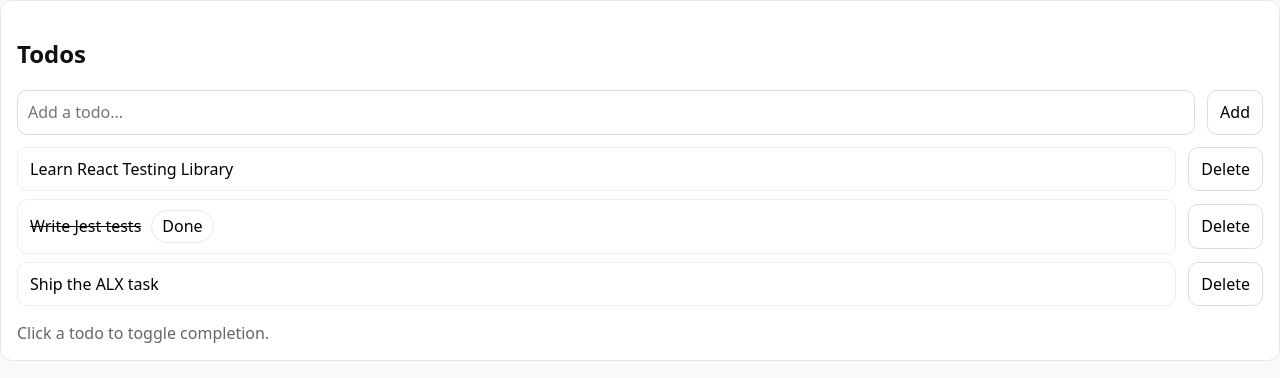
Scenario: TodoList › deletes a todo
Click the button with aria-label "delete-3" at (1226, 284), box x1=1188 y1=262 x2=1263 y2=306
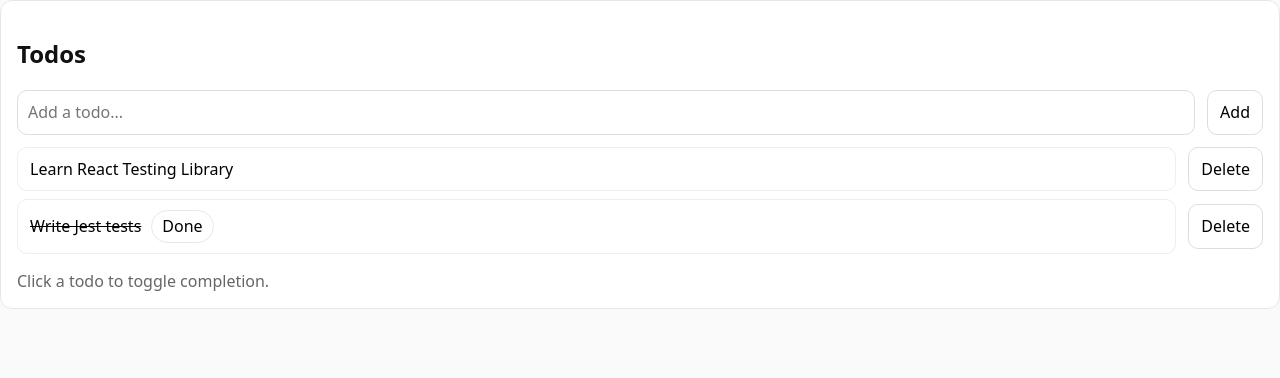
Now the button "Ship the ALX task" is gone
